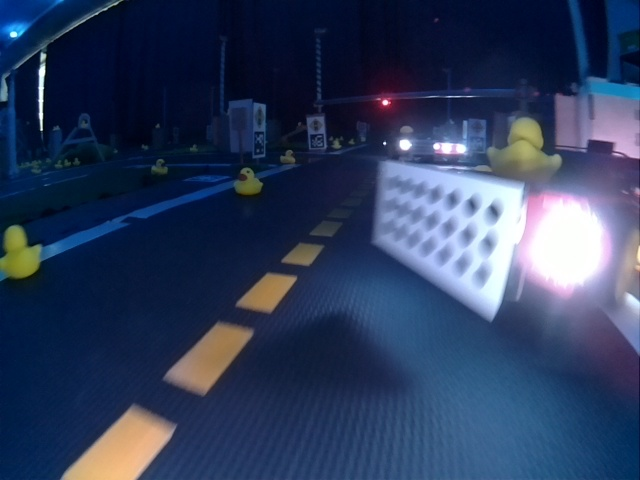Duckie: (487, 120, 561, 180), (2, 225, 42, 279), (235, 168, 264, 195), (151, 159, 169, 176), (279, 150, 296, 164)
Duckiebot: (375, 159, 621, 326)
QR code: (254, 133, 265, 155), (310, 134, 326, 148)
Signal sign: (308, 118, 324, 133), (254, 108, 264, 129)
Traffic light: (379, 96, 393, 109)
